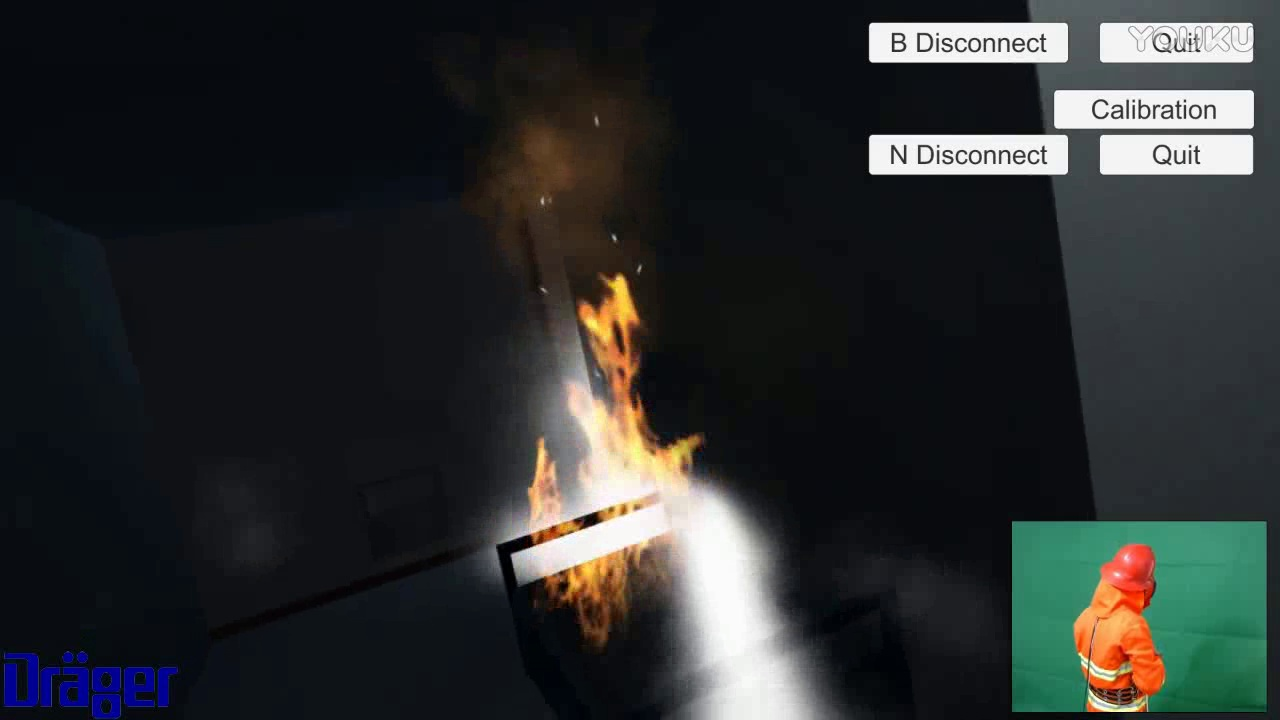fire: (499, 270, 711, 645)
